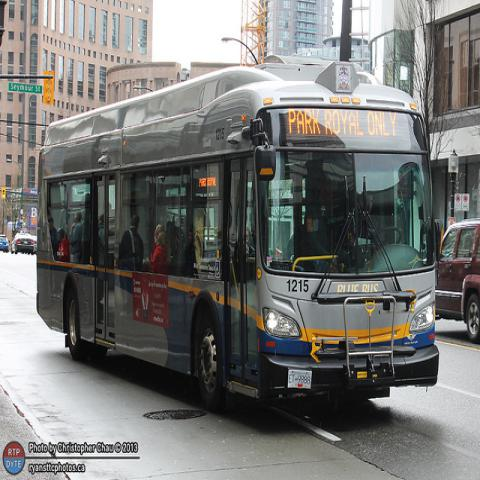bus: (37, 60, 444, 415)
car: (435, 217, 479, 344), (11, 233, 34, 253), (0, 234, 12, 254)
